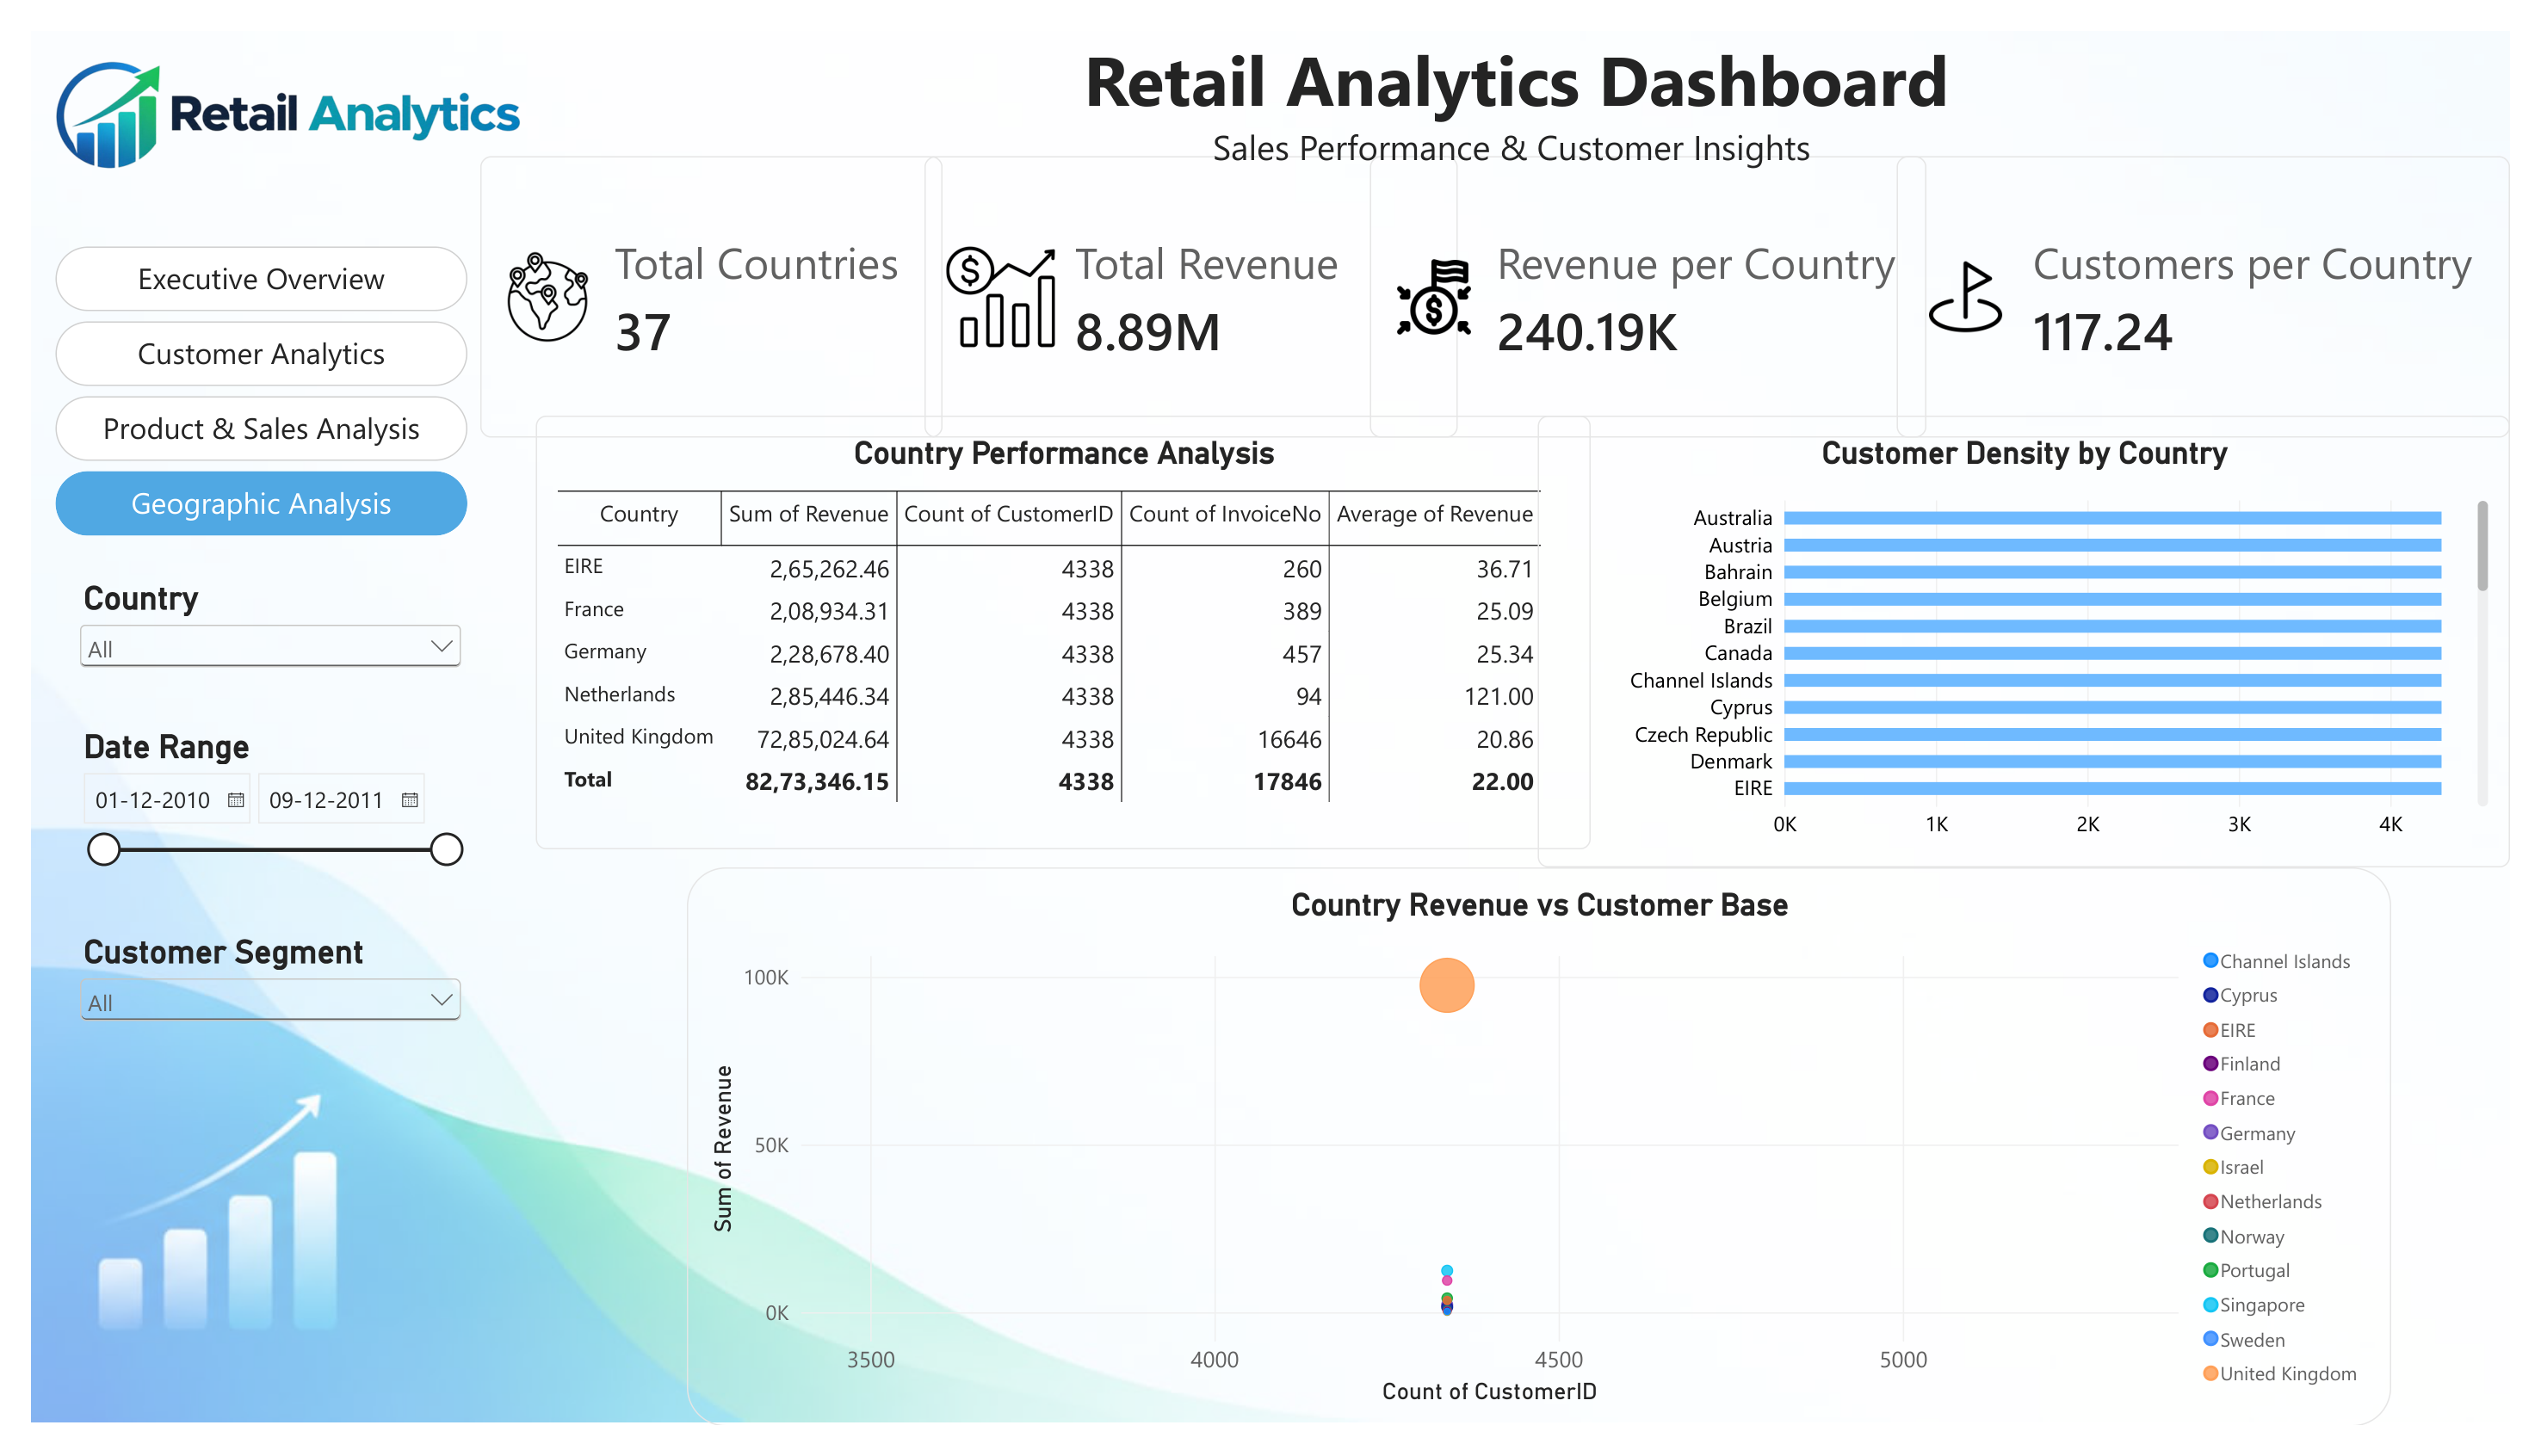

The page's visual inventory and layout, read from the dashboard file:
{"tool":"powerbi","page":{"name":"Geographic Analysis","canvas":[1920,1080],"ordinal":3},"visuals":[{"type":"cardVisual","fields":{"Data":["RetailTransactions.Total Revenue"]},"box":[691.6,96.7,413.7,218.2],"z":0},{"type":"cardVisual","fields":{"Data":["RetailTransactions.Revenue per Country"]},"box":[1037.4,96.7,430.2,218.2],"z":1000},{"type":"cardVisual","fields":{"Data":["Count(RetailTransactions.Country)"]},"box":[347.9,96.7,358.1,218.2],"z":2000},{"type":"cardVisual","fields":{"Data":["RetailTransactions.Customers per Country"]},"box":[1444.9,96.7,475.5,218.2],"z":3000},{"type":"scatterChart","title":"Country Revenue vs Customer Base","fields":{"X":["CustomerSegmentation.CustomerID"],"Y":["Sum(RetailTransactions.Revenue)"],"Size":["CountNonNull(RetailTransactions.InvoiceNo)"],"Series":["RetailTransactions.Country"]},"box":[508.4,648.4,1319.4,432.2],"z":4000},{"type":"image","box":[0,0,391.1,146.1],"z":6000},{"type":"textbox","box":[424,0,1453.2,115.3],"z":7000},{"type":"slicer","fields":{"Values":["RetailTransactions.Country"]},"box":[32.9,424,304.6,115.3],"z":8000},{"type":"slicer","fields":{"Values":["RetailTransactions.InvoiceDate"]},"box":[32.9,539.3,304.6,251.1],"z":9000},{"type":"slicer","fields":{"Values":["RetailTransactions.Description"]},"box":[32.9,697.8,304.6,131.7],"z":10000},{"type":"pivotTable","title":"Country Performance Analysis","fields":{"Rows":["RetailTransactions.Country"],"Values":["Sum(RetailTransactions.Revenue)","Count(CustomerSegmentation.CustomerID)","Count(RetailTransactions.InvoiceNo)","Avg(RetailTransactions.Revenue)"]},"box":[391.1,298.5,817.2,335.5],"z":11000},{"type":"clusteredBarChart","title":"Customer Density by Country","fields":{"Category":["RetailTransactions.Country"],"Y":["Count(CustomerSegmentation.CustomerID)"]},"box":[1167.1,298.5,753.3,349.9],"z":12000},{"type":"pageNavigator","box":[18.5,166.7,319,226.4],"z":13000}]}

Visuals, with their boxes in screenshot pixels (x1, y1, x2, y2), scaled from the page's 1920x1080 canvas onto the 2541x1456 screenshot:
cardVisual - RetailTransactions.Total Revenue: {"x1": 915, "y1": 130, "x2": 1462, "y2": 424}
cardVisual - RetailTransactions.Revenue per Country: {"x1": 1373, "y1": 130, "x2": 1942, "y2": 424}
cardVisual - Count(RetailTransactions.Country): {"x1": 461, "y1": 130, "x2": 934, "y2": 424}
cardVisual - RetailTransactions.Customers per Country: {"x1": 1913, "y1": 130, "x2": 2540, "y2": 424}
"Country Revenue vs Customer Base" scatterChart: {"x1": 673, "y1": 874, "x2": 2419, "y2": 1455}
image: {"x1": 0, "y1": 0, "x2": 517, "y2": 197}
textbox: {"x1": 561, "y1": 0, "x2": 2484, "y2": 156}
slicer - RetailTransactions.Country: {"x1": 44, "y1": 571, "x2": 447, "y2": 727}
slicer - RetailTransactions.InvoiceDate: {"x1": 44, "y1": 727, "x2": 447, "y2": 1065}
slicer - RetailTransactions.Description: {"x1": 44, "y1": 941, "x2": 447, "y2": 1119}
"Country Performance Analysis" pivotTable: {"x1": 517, "y1": 403, "x2": 1599, "y2": 854}
"Customer Density by Country" clusteredBarChart: {"x1": 1544, "y1": 403, "x2": 2540, "y2": 874}
pageNavigator: {"x1": 24, "y1": 225, "x2": 447, "y2": 530}
